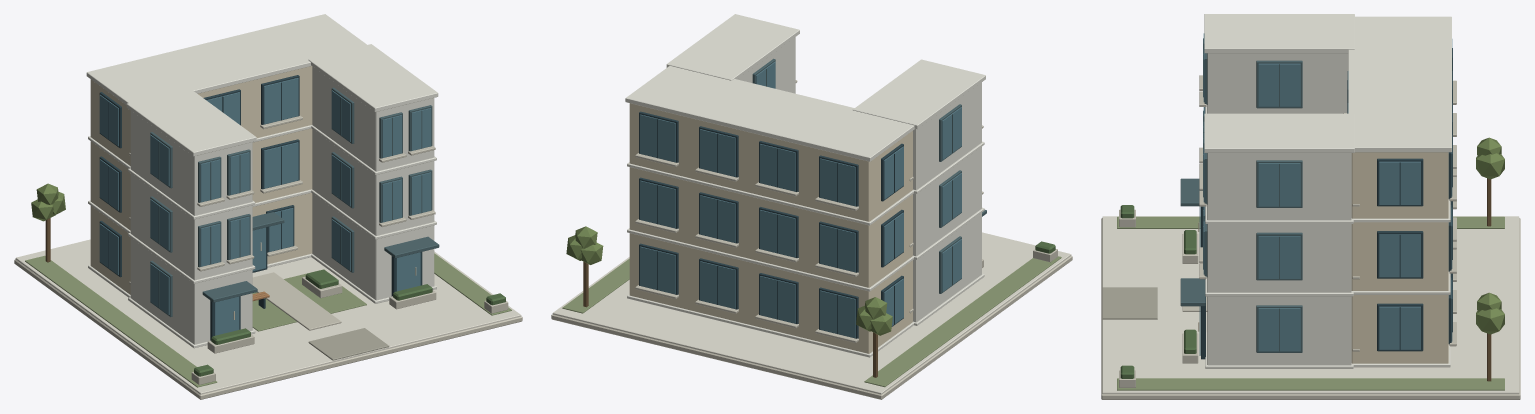
File: small-4x4-b.glb
3 renders of one model, left to right at view 1: azimuth 30°, elevation 25°; view 2: azimuth 150°, elevation 25°; view 3: azimuth 270°, elevation 25°, orthographic. The views are drawn at different scales.
Parts seen in each view (by area): view 1: LotTop, BuildingBody.001, BuildingBody.002, RoofCap, BuildingBody, RoofCap.001, RoofCap.002, GrassSide, LotBase, CourtyardPath, CourtyardLawn, EntryPath (+32 smaller); view 2: BuildingBody, LotTop, RoofCap, BuildingBody.001, RoofCap.001, RoofCap.002, GrassSide, LotBase, WindowGlass.003, WindowGlass.005, WindowGlass.011, WindowGlass.013 (+19 smaller); view 3: LotTop, BuildingBody.002, RoofCap, BuildingBody, BuildingBody.001, RoofCap.002, RoofCap.001, GrassSide.001, LotBase, SideGlass.013, SideGlass.017, EntryPath (+23 smaller).
Boxes of the visible parts, left/top/right/bottom form: LotTop: left=15, top=239, right=521, bottom=394; BuildingBody.001: left=130, top=111, right=252, bottom=344; BuildingBody.002: left=312, top=66, right=434, bottom=300; RoofCap: left=86, top=14, right=366, bottom=104; BuildingBody: left=90, top=66, right=312, bottom=294; RoofCap.001: left=126, top=88, right=256, bottom=156; RoofCap.002: left=308, top=44, right=438, bottom=111; GrassSide: left=25, top=255, right=217, bottom=387; LotBase: left=14, top=259, right=522, bottom=399; CourtyardPath: left=252, top=272, right=341, bottom=330; CourtyardLawn: left=252, top=270, right=366, bottom=331; EntryPath: left=308, top=328, right=389, bottom=360; BuildingBody: left=629, top=103, right=912, bottom=353; LotTop: left=552, top=232, right=1071, bottom=394; RoofCap: left=625, top=66, right=914, bottom=161; BuildingBody.001: left=913, top=82, right=981, bottom=322; RoofCap.001: left=853, top=59, right=985, bottom=129; RoofCap.002: left=666, top=14, right=799, bottom=80; GrassSide: left=864, top=256, right=1061, bottom=387; LotBase: left=551, top=255, right=1072, bottom=399; WindowGlass.003: left=760, top=276, right=795, bottom=323; WindowGlass.005: left=700, top=261, right=735, bottom=308; WindowGlass.011: left=760, top=210, right=795, bottom=257; WindowGlass.013: left=700, top=195, right=735, bottom=242; LotTop: left=1102, top=216, right=1519, bottom=394; BuildingBody.002: left=1207, top=153, right=1351, bottom=365; RoofCap: left=1348, top=16, right=1451, bottom=152; BuildingBody: left=1351, top=152, right=1448, bottom=363; BuildingBody.001: left=1207, top=53, right=1348, bottom=113; RoofCap.002: left=1204, top=113, right=1354, bottom=152; RoofCap.001: left=1204, top=14, right=1354, bottom=53; GrassSide.001: left=1117, top=378, right=1504, bottom=390; LotBase: left=1101, top=218, right=1520, bottom=399; SideGlass.013: left=1258, top=308, right=1300, bottom=351; SideGlass.017: left=1258, top=163, right=1300, bottom=206; EntryPath: left=1102, top=287, right=1157, bottom=319.
Bounding box in the file's own units: 16 × 9.71 × 16.
